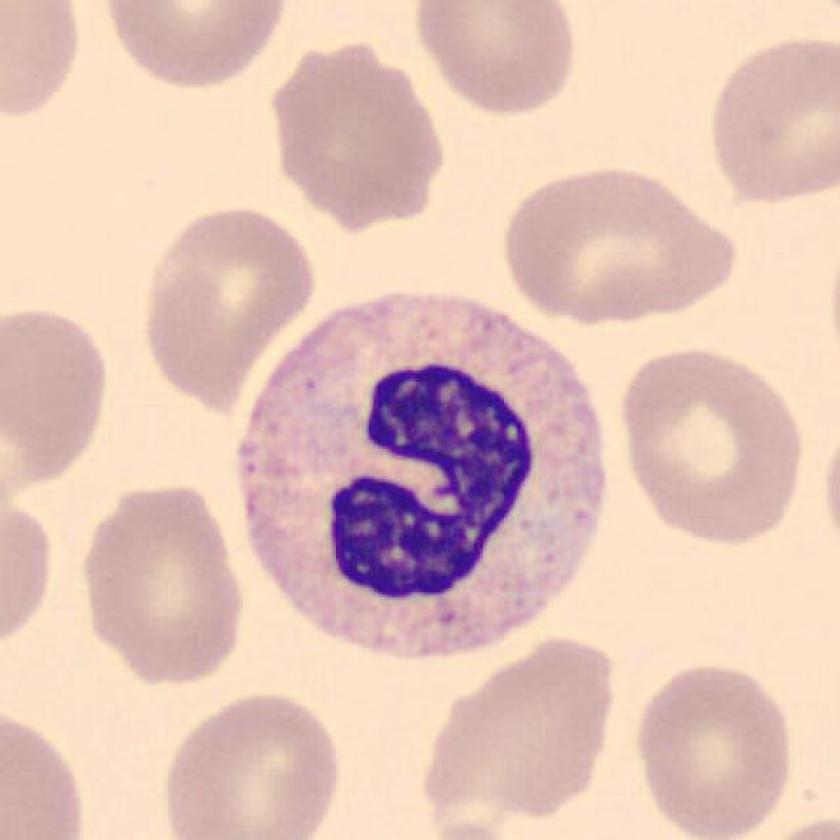neutrophil: (237, 290, 605, 660)
